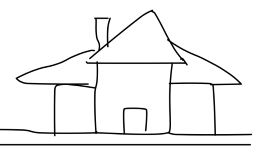big_house: (0, 0, 256, 150)
chimney: (92, 9, 119, 57)
door: (112, 95, 155, 142)
roof: (83, 6, 192, 71)
wall: (88, 55, 174, 138)
